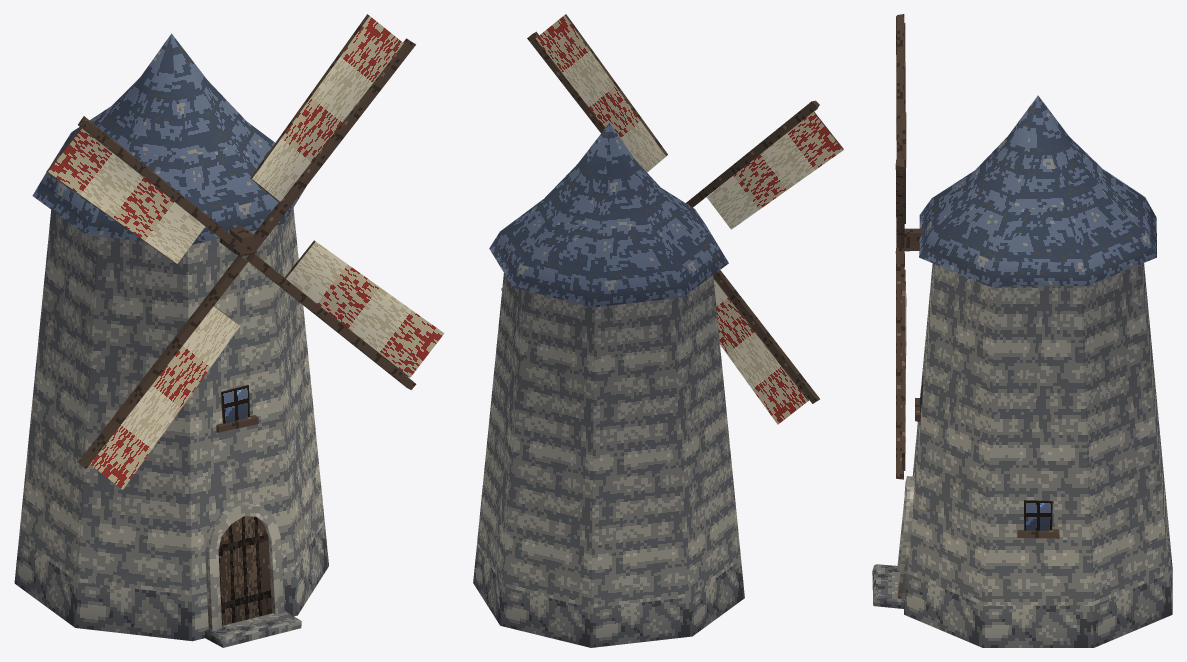
The model's file is vlg.mill__turned.glb.
3 views of the same model, side by side, from view 1: azimuth 30°, elevation 25°; view 2: azimuth 150°, elevation 25°; view 3: azimuth 270°, elevation 25° (orthographic). The views are drawn at different scales.
Parts seen in each view (by area): view 1: kit_walls, kit_fittings, kit_roof, kit_frame; view 2: kit_walls, kit_roof, kit_fittings, kit_frame; view 3: kit_walls, kit_roof, kit_fittings, kit_frame.
Part boxes in pixels (x1,y1,x2,y2): kit_walls: (14,208,328,641); kit_fittings: (46,14,444,647); kit_roof: (32,33,305,244); kit_frame: (78,38,416,468); kit_walls: (473,273,744,647); kit_roof: (489,123,728,307); kit_fittings: (501,14,843,424); kit_frame: (527,31,819,403); kit_walls: (904,263,1172,647); kit_roof: (919,95,1156,286); kit_fittings: (872,23,1059,608); kit_frame: (895,14,922,479).
Size of the model in its own units: 7.5 by 10.56 by 5.37.
9 materials, 9 textured.
